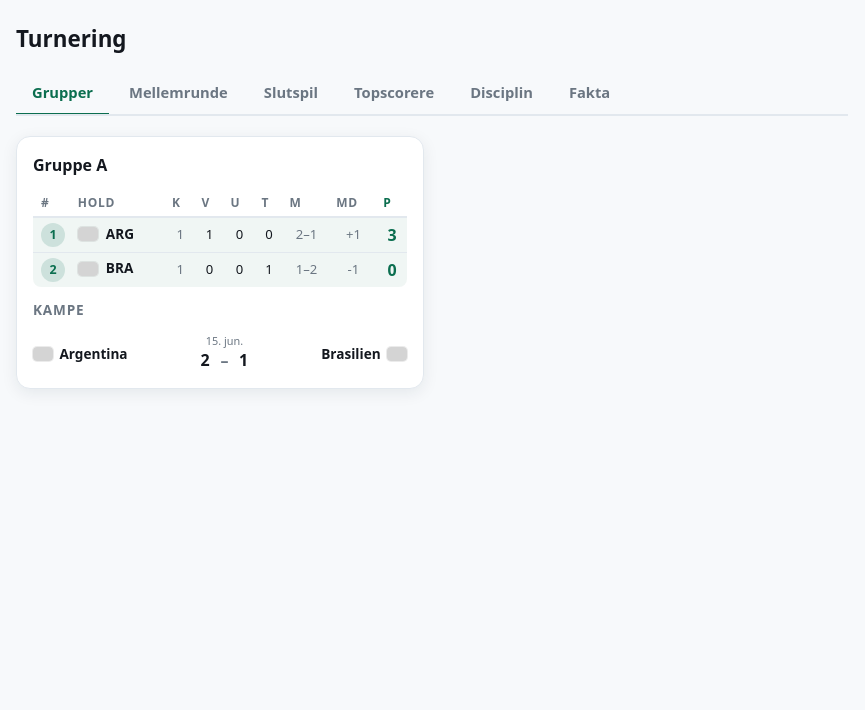
Test: TournamentPage – Fakta-fane › viser nøgletal og minut-interval-diagram for spillede kampe
The width and height of the screenshot is (865, 710).
Step 1. Click the tab "Fakta" → x=590, y=94, box [553,72,626,116]
(page scrolled)
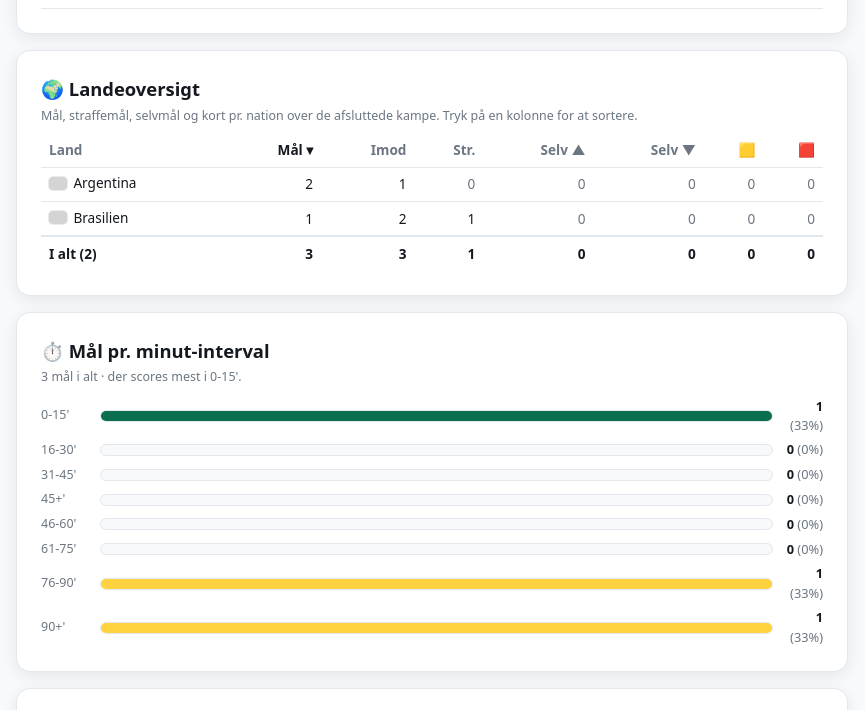
Now the heading "⏱️ Mål pr. minut-interval" is shown, box [41,338,270,363]
